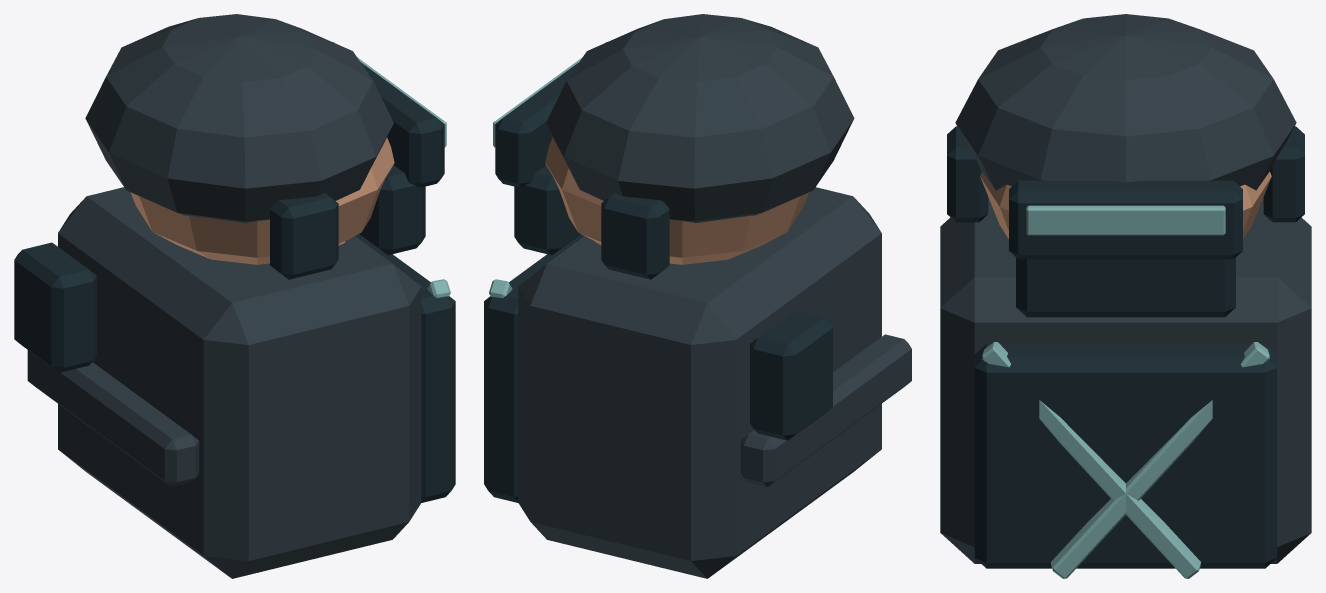
File: nightfall.signature.glb
3 views of the same model, side by side, from view 1: azimuth 30°, elevation 25°; view 2: azimuth 150°, elevation 25°; view 3: azimuth 270°, elevation 25° (orthographic). The views are drawn at different scales.
Parts seen in each view (by area): view 1: nightfall_signature__main__torso, nightfall_signature__main__head; view 2: nightfall_signature__main__torso, nightfall_signature__main__head; view 3: nightfall_signature__main__torso, nightfall_signature__main__head.
Boxes of the visible parts, x1,y1,x2,y2 form: nightfall_signature__main__torso: [14, 187, 455, 578]; nightfall_signature__main__head: [85, 14, 446, 279]; nightfall_signature__main__torso: [484, 187, 911, 578]; nightfall_signature__main__head: [493, 14, 854, 279]; nightfall_signature__main__torso: [940, 197, 1311, 578]; nightfall_signature__main__head: [947, 14, 1304, 317].
Bounding box in the file's own units: 28.53 × 39.1 × 27.
